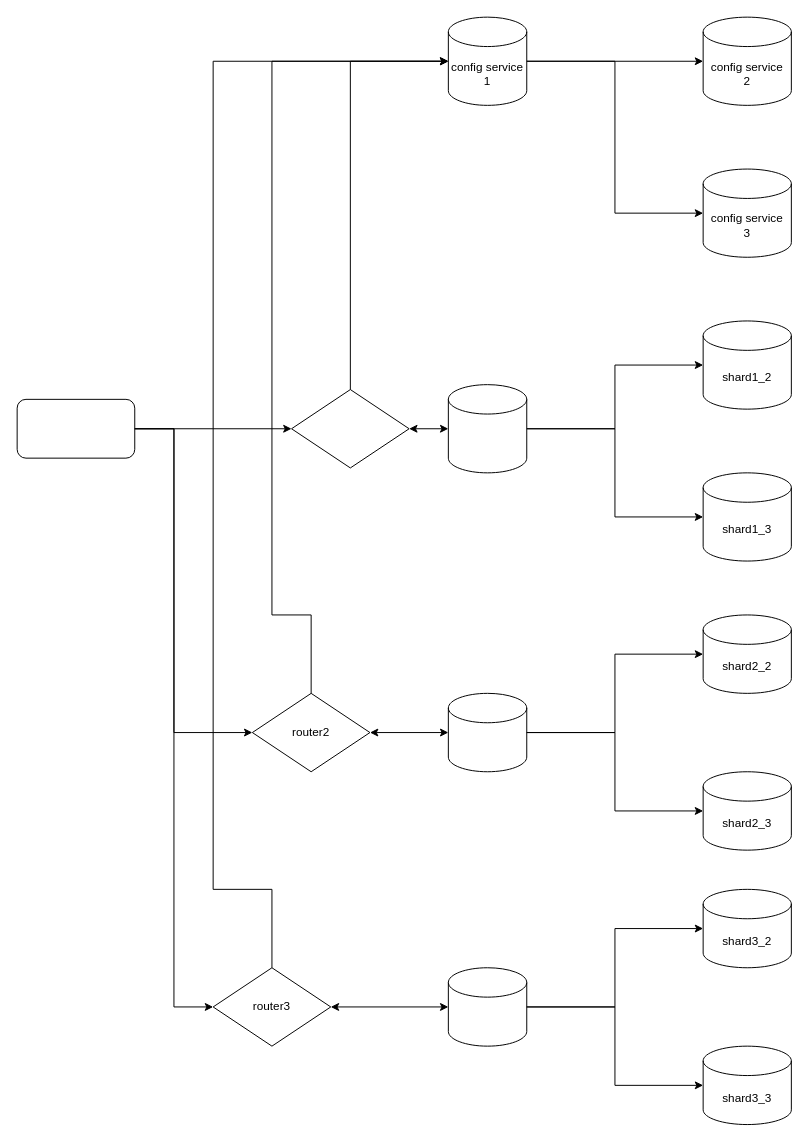
Some shapes in this 809 by 1142 pixel diagram are drawn without their labels. Here are the shapes that lost their labels. From the top down, the centre of each, then its label:
At (75,428): "pymongo-api".
At (350,428): "router1".
At (487,428): "shard1_1".
At (487,732): "shard2_1".
At (487,1006): "shard3_1".
